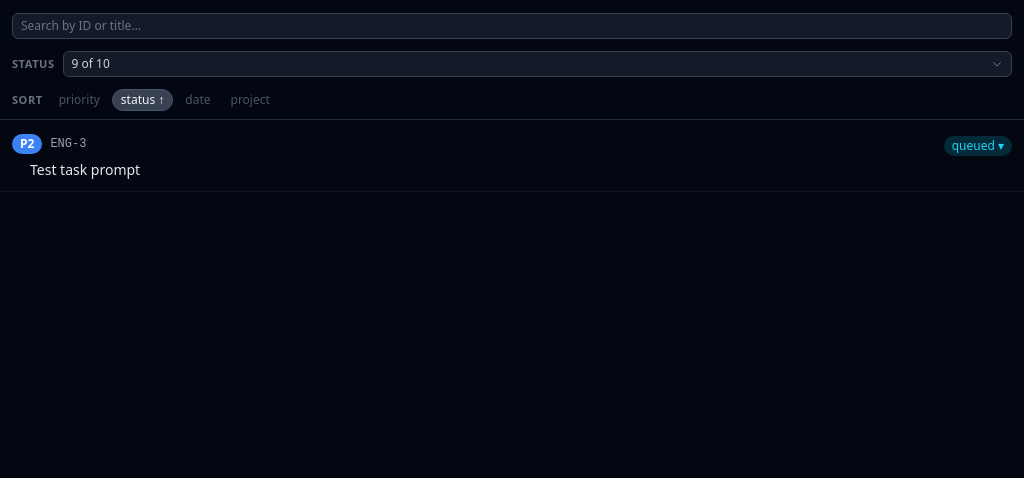
Test: TaskList › status badge counts reflect all tasks regardless of filters
Note: Open the status dropdown
Click the button "9 of 10" at [91, 64], box [62,51,1012,77]
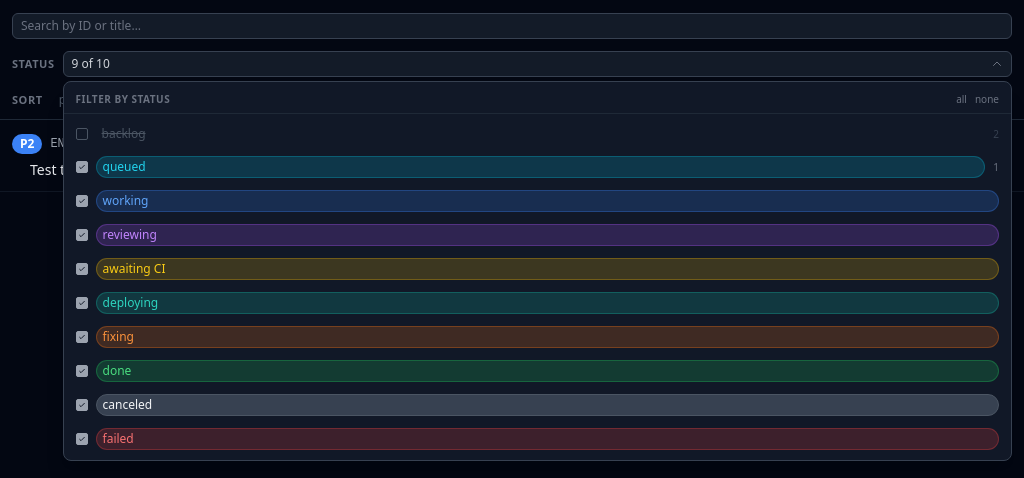
Expected: the option "backlog 2" is shown, [64,118,1011,150]
